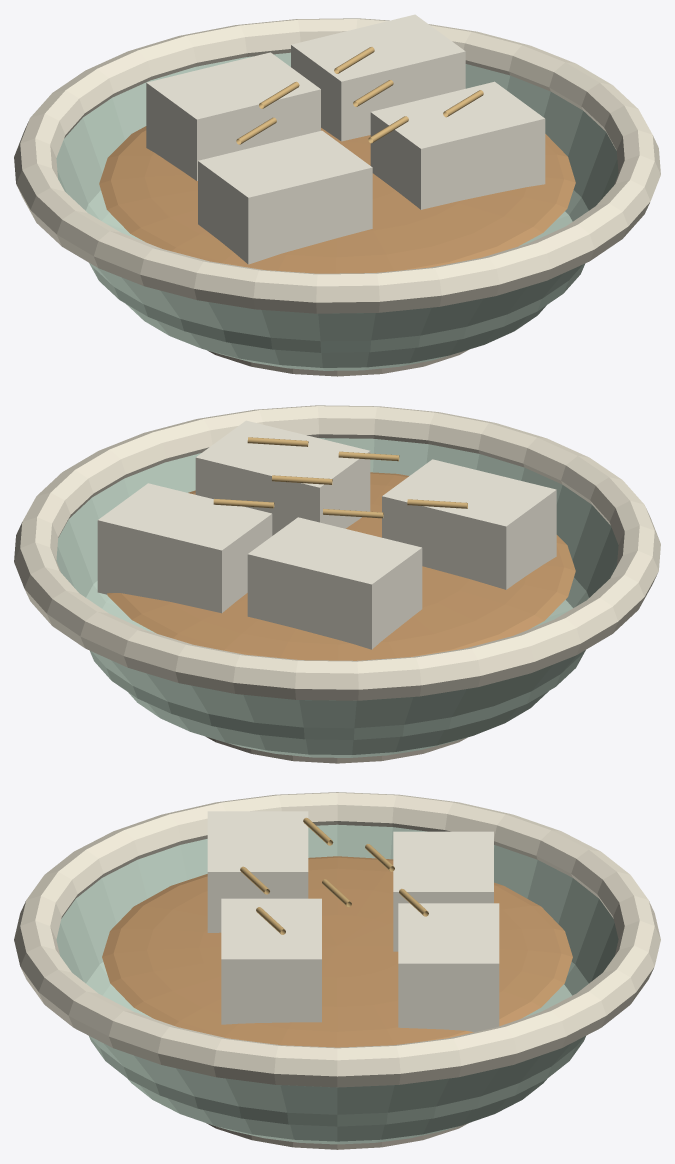
Rendered from portioned_tofu.glb.
The picture shows the model from 3 angles, top to bottom: view 1: azimuth 30°, elevation 25°; view 2: azimuth 150°, elevation 25°; view 3: azimuth 270°, elevation 25°; orthographic projection.
Visible parts, largest first — view 1: small_portion_bowl_rolled_lip, small_portion_bowl_hollow_profile, syrup_pool, soft_tofu_portion_0, soft_tofu_portion_1, soft_tofu_portion_2, soft_tofu_portion_3, small_portion_bowl_foot_ring; view 2: small_portion_bowl_rolled_lip, small_portion_bowl_hollow_profile, syrup_pool, soft_tofu_portion_2, soft_tofu_portion_3, soft_tofu_portion_0, soft_tofu_portion_1, small_portion_bowl_foot_ring; view 3: small_portion_bowl_rolled_lip, small_portion_bowl_hollow_profile, syrup_pool, soft_tofu_portion_3, soft_tofu_portion_1, soft_tofu_portion_0, soft_tofu_portion_2, small_portion_bowl_foot_ring.
Part boxes in pixels (x1,y1,x2,y2): small_portion_bowl_rolled_lip: (14, 18, 660, 313); small_portion_bowl_hollow_profile: (56, 52, 618, 370); syrup_pool: (99, 126, 575, 273); soft_tofu_portion_0: (198, 130, 372, 264); soft_tofu_portion_1: (370, 81, 545, 209); soft_tofu_portion_2: (146, 52, 320, 180); soft_tofu_portion_3: (291, 14, 465, 141); small_portion_bowl_foot_ring: (207, 349, 468, 376); small_portion_bowl_rolled_lip: (14, 405, 660, 700); small_portion_bowl_hollow_profile: (56, 438, 618, 757); syrup_pool: (107, 472, 575, 660); soft_tofu_portion_2: (247, 517, 422, 649); soft_tofu_portion_3: (97, 483, 272, 613); soft_tofu_portion_0: (382, 459, 556, 589); soft_tofu_portion_1: (195, 420, 370, 535); small_portion_bowl_foot_ring: (206, 736, 467, 763); small_portion_bowl_rolled_lip: (14, 792, 660, 1087); small_portion_bowl_hollow_profile: (56, 824, 618, 1144); syrup_pool: (102, 856, 572, 1047); soft_tofu_portion_3: (398, 903, 499, 1032); soft_tofu_portion_1: (221, 898, 321, 1024); soft_tofu_portion_0: (207, 811, 308, 932); soft_tofu_portion_2: (393, 831, 493, 951); small_portion_bowl_foot_ring: (206, 1123, 468, 1149).
Bounding box in the file's own units: 0.61 × 0.213 × 0.61.
